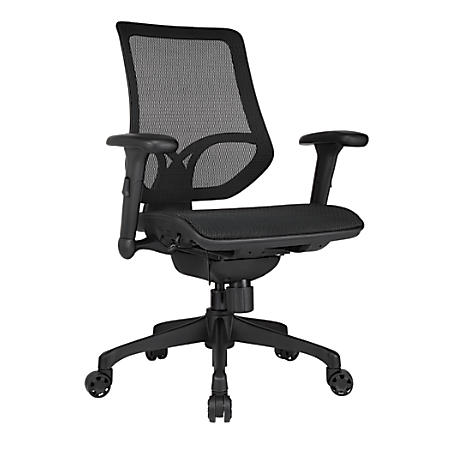chairs: (81, 12, 369, 425)
